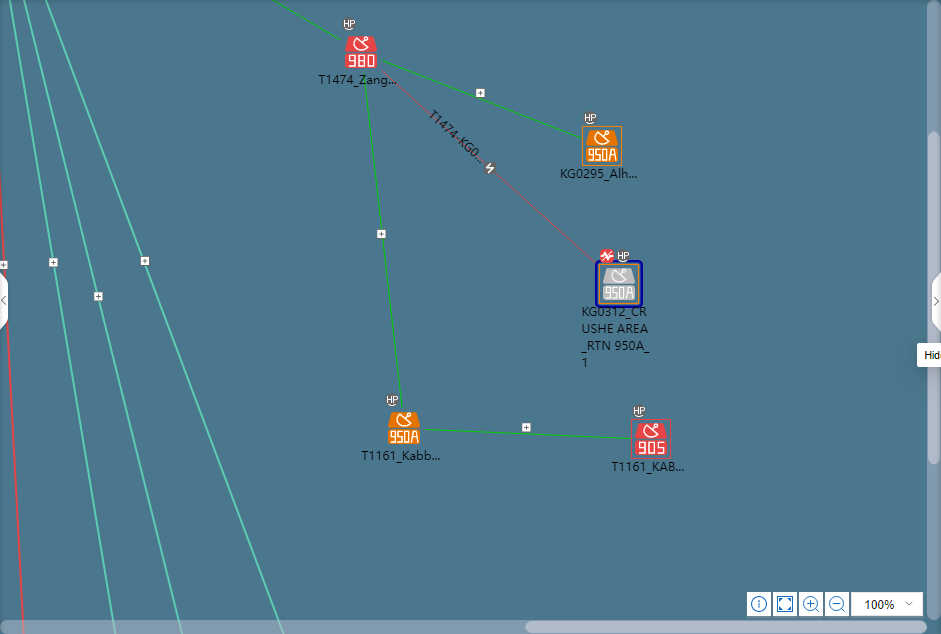Link_Blue: (57, 32, 290, 634), (26, 38, 179, 634), (3, 8, 119, 634)
Link_Green: (379, 55, 584, 142), (362, 73, 407, 413), (426, 426, 628, 442), (282, 2, 340, 39)
Link_Red: (379, 67, 601, 266), (3, 302, 31, 634), (3, 304, 31, 634)
RTN_Gray: (597, 267, 635, 307)
RTN_Orange: (385, 414, 419, 448), (585, 132, 618, 166)
RTN_Red: (632, 420, 672, 460), (344, 38, 378, 71)
